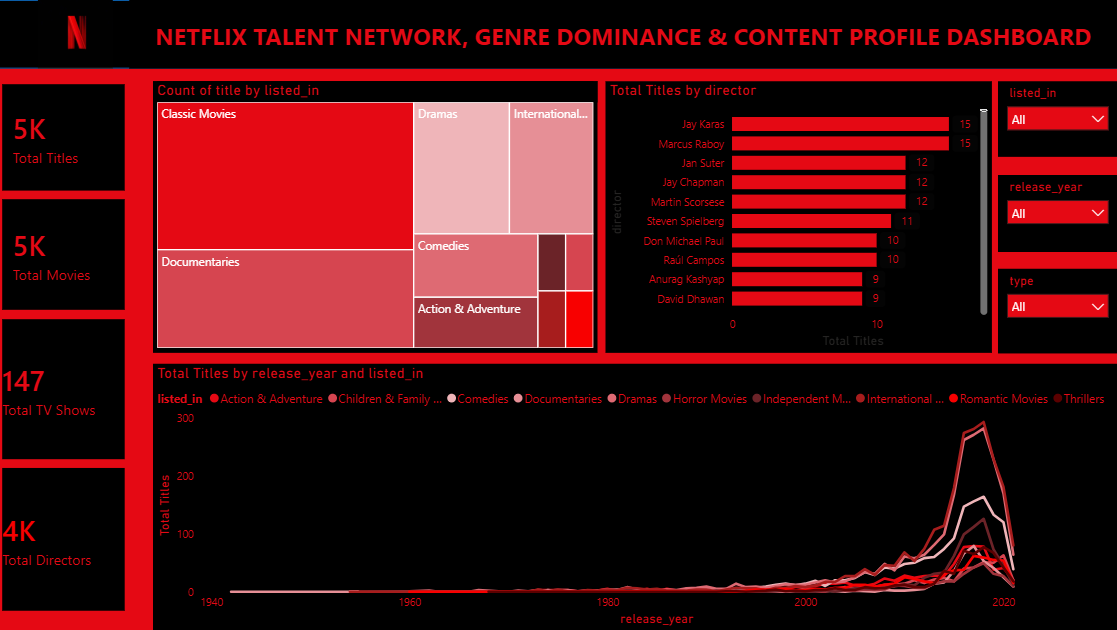

What the dashboard file says about the page in this screenshot:
{"tool":"powerbi","page":{"name":"Page 2","canvas":[1280,720],"ordinal":1},"visuals":[{"type":"shape","box":[0,0,1280,78.3],"z":0},{"type":"image","box":[0,0,176.7,78.3],"z":1000},{"type":"clusteredBarChart","fields":{"Y":["netflix_titles.Total Titles"],"Category":["netflix_titles.director"]},"box":[695,93.3,441.7,310],"z":2000},{"type":"lineChart","fields":{"Category":["netflix_titles.release_year"],"Y":["netflix_titles.Total Titles"],"Series":["netflix_titles.listed_in"]},"box":[176.7,415,1103.3,305],"z":3000},{"type":"treemap","fields":{"Group":["netflix_titles.listed_in"],"Values":["CountNonNull(netflix_titles.title)"]},"box":[176.7,93.3,508.3,310],"z":4000},{"type":"slicer","fields":{"Values":["netflix_titles.listed_in"]},"box":[1143.3,93.3,136.7,86.7],"z":5000},{"type":"slicer","fields":{"Values":["netflix_titles.release_year"]},"box":[1143.3,200,136.7,88.3],"z":6000},{"type":"slicer","fields":{"Values":["netflix_titles.type"]},"box":[1143.3,306.7,136.7,96.7],"z":7000},{"type":"cardVisual","fields":{"Data":["netflix_titles.Total Movies"]},"box":[0,223.3,150,136.7],"z":8000},{"type":"cardVisual","fields":{"Data":["netflix_titles.Total TV Shows"]},"box":[0,360,150,170],"z":9000},{"type":"cardVisual","fields":{"Data":["netflix_titles.Total Titles"]},"box":[0,91.7,150,131.7],"z":10000},{"type":"cardVisual","fields":{"Data":["netflix_titles.Total Directors"]},"box":[0,530,150,173.3],"z":11000},{"type":"textbox","box":[150,0,1130,78.6],"z":12000}]}

Visuals, with their boxes in screenshot pixels (x1, y1, x2, y2), scaled from the page's 1280x720 canvas onto the 1117x630 screenshot:
shape: Rect(0, 0, 1116, 69)
image: Rect(0, 0, 154, 69)
clusteredBarChart - netflix_titles.Total Titles x netflix_titles.director: Rect(606, 82, 992, 353)
lineChart - netflix_titles.release_year x netflix_titles.Total Titles: Rect(154, 363, 1116, 629)
treemap - netflix_titles.listed_in x CountNonNull(netflix_titles.title): Rect(154, 82, 598, 353)
slicer - netflix_titles.listed_in: Rect(998, 82, 1116, 158)
slicer - netflix_titles.release_year: Rect(998, 175, 1116, 252)
slicer - netflix_titles.type: Rect(998, 268, 1116, 353)
cardVisual - netflix_titles.Total Movies: Rect(0, 195, 131, 315)
cardVisual - netflix_titles.Total TV Shows: Rect(0, 315, 131, 464)
cardVisual - netflix_titles.Total Titles: Rect(0, 80, 131, 195)
cardVisual - netflix_titles.Total Directors: Rect(0, 464, 131, 615)
textbox: Rect(131, 0, 1116, 69)
